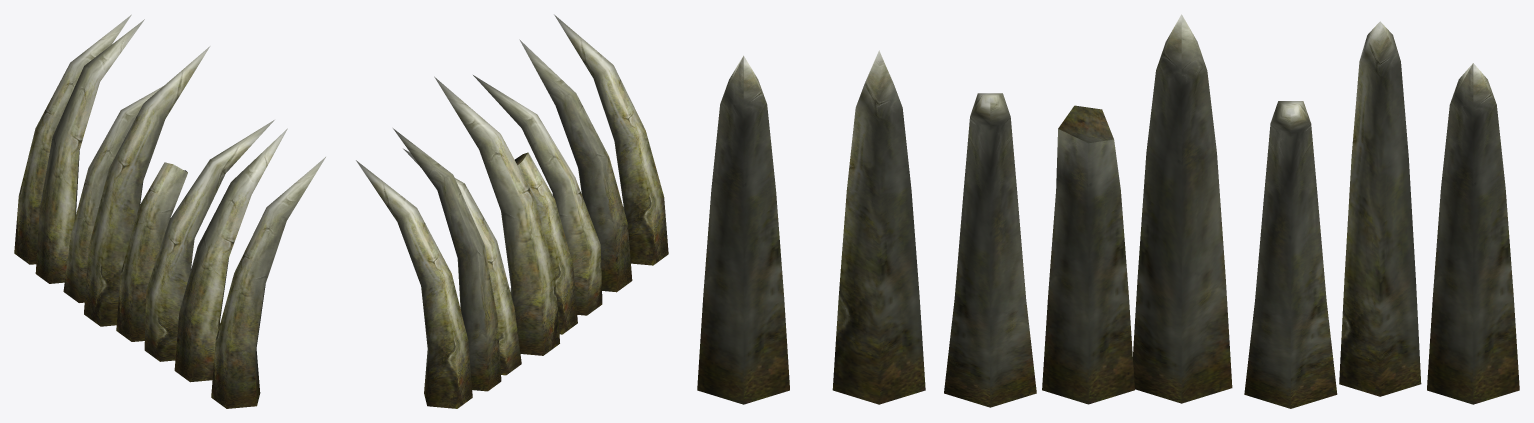
File: C_guci.fbx
3 views of the same model, side by side, from view 1: azimuth 30°, elevation 25°; view 2: azimuth 150°, elevation 25°; view 3: azimuth 270°, elevation 25° (orthographic). The views are drawn at different scales.
Visible parts, largest first — view 1: C_guci; view 2: C_guci; view 3: C_guci.
Part boxes in pixels (x1,y1,x2,y2): C_guci: [14, 14, 325, 408]; C_guci: [356, 14, 668, 408]; C_guci: [697, 14, 1519, 408].
Bounding box in the file's own units: 122 × 218 × 355.
